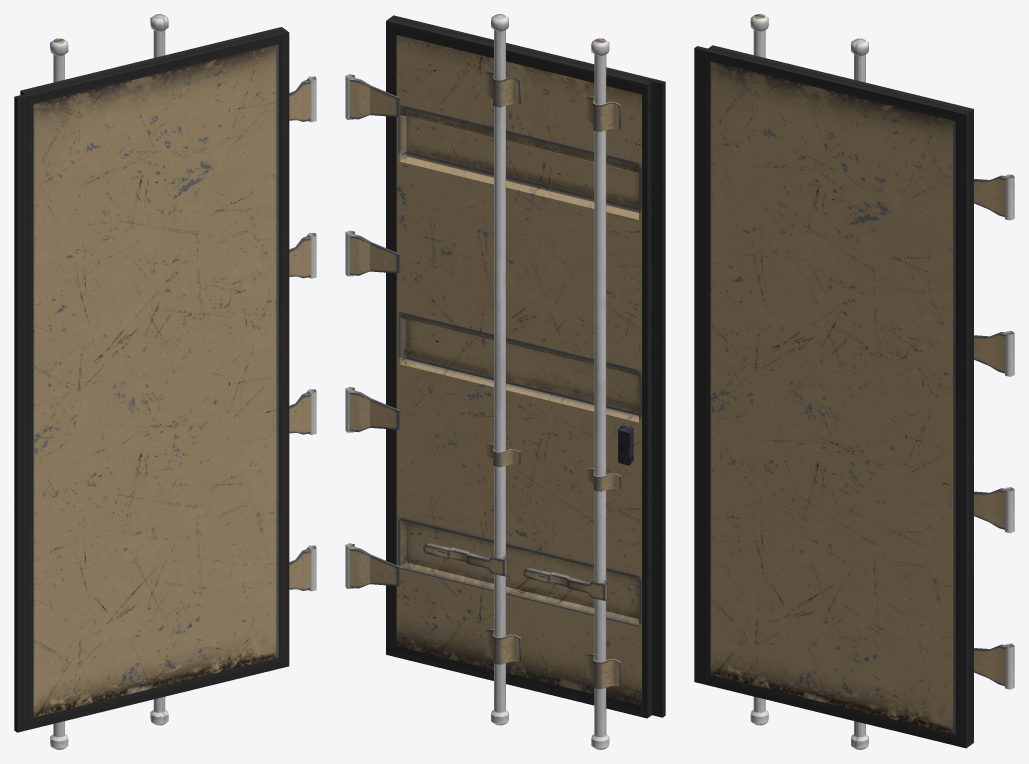
Rendered from CnMainDoorLA1.fbx.
3 renders of one model, left to right at view 1: azimuth 30°, elevation 25°; view 2: azimuth 150°, elevation 25°; view 3: azimuth 330°, elevation 25°, orthographic.
Visible parts, largest first — view 1: CnMainDoorWndLA1, CnMainDoorDetLA1; view 2: CnMainDoorWndLA1, CnMainDoorDetLA1; view 3: CnMainDoorWndLA1, CnMainDoorDetLA1.
Boxes of the visible parts, x1=… form: CnMainDoorWndLA1: x1=14, y1=27, x2=289, y2=732; CnMainDoorDetLA1: x1=50, y1=14, x2=316, y2=749; CnMainDoorWndLA1: x1=386, y1=15, x2=665, y2=718; CnMainDoorDetLA1: x1=345, y1=14, x2=633, y2=749; CnMainDoorWndLA1: x1=694, y1=45, x2=973, y2=748; CnMainDoorDetLA1: x1=750, y1=14, x2=1014, y2=749.
Size of the model in its own units: 116 by 253 by 10.68.
